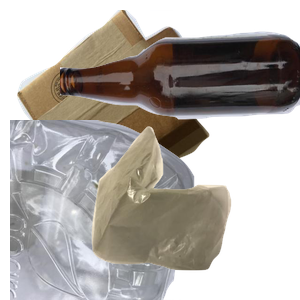cardboard: (14, 10, 222, 190)
glass: (60, 29, 300, 141)
plastic: (10, 120, 197, 300)
trash: (89, 124, 300, 300)
